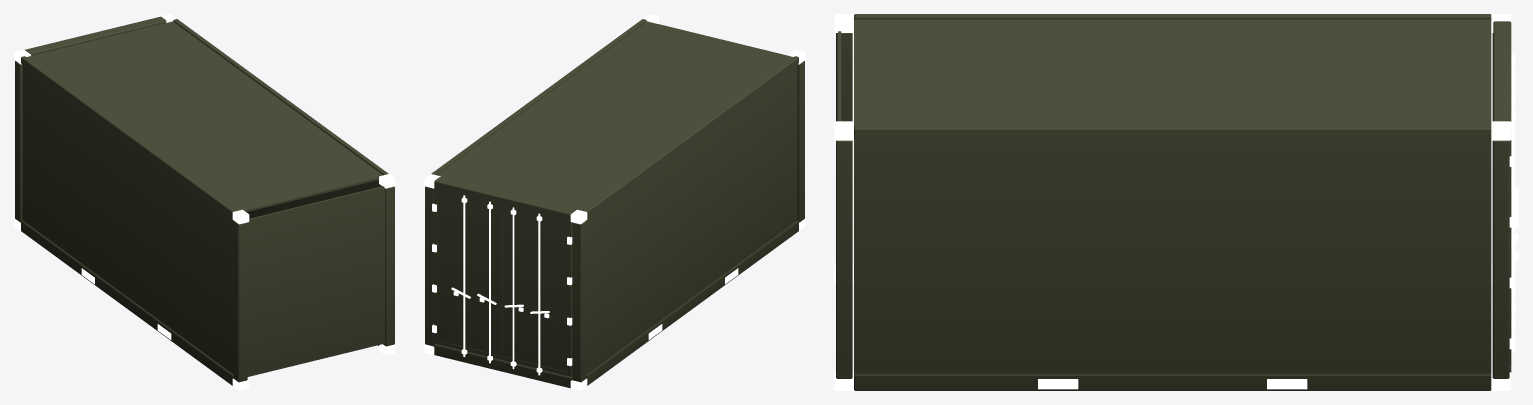
Rendered from iso_container_20_od.glb.
3 views of the same model, side by side, from view 1: azimuth 30°, elevation 25°; view 2: azimuth 150°, elevation 25°; view 3: azimuth 270°, elevation 25° (orthographic). The views are drawn at different scales.
Visible parts, largest first — view 1: iso_container_20_od_LOD0; view 2: iso_container_20_od_LOD0; view 3: iso_container_20_od_LOD0.
Boxes of the visible parts, box(x1,y1,x2,y2) form: iso_container_20_od_LOD0: box(14, 14, 395, 390); iso_container_20_od_LOD0: box(424, 14, 805, 390); iso_container_20_od_LOD0: box(834, 14, 1518, 390).
Size of what is drawn, in the model's own units: 2.44 by 2.59 by 6.13.
